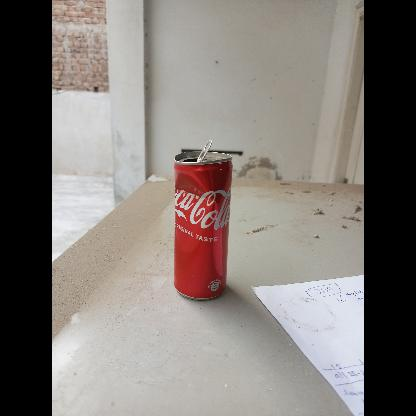Dent_Can: (176, 165, 233, 237)
Lid_Open: (184, 136, 214, 166)
Tin_Can: (172, 136, 235, 302)
